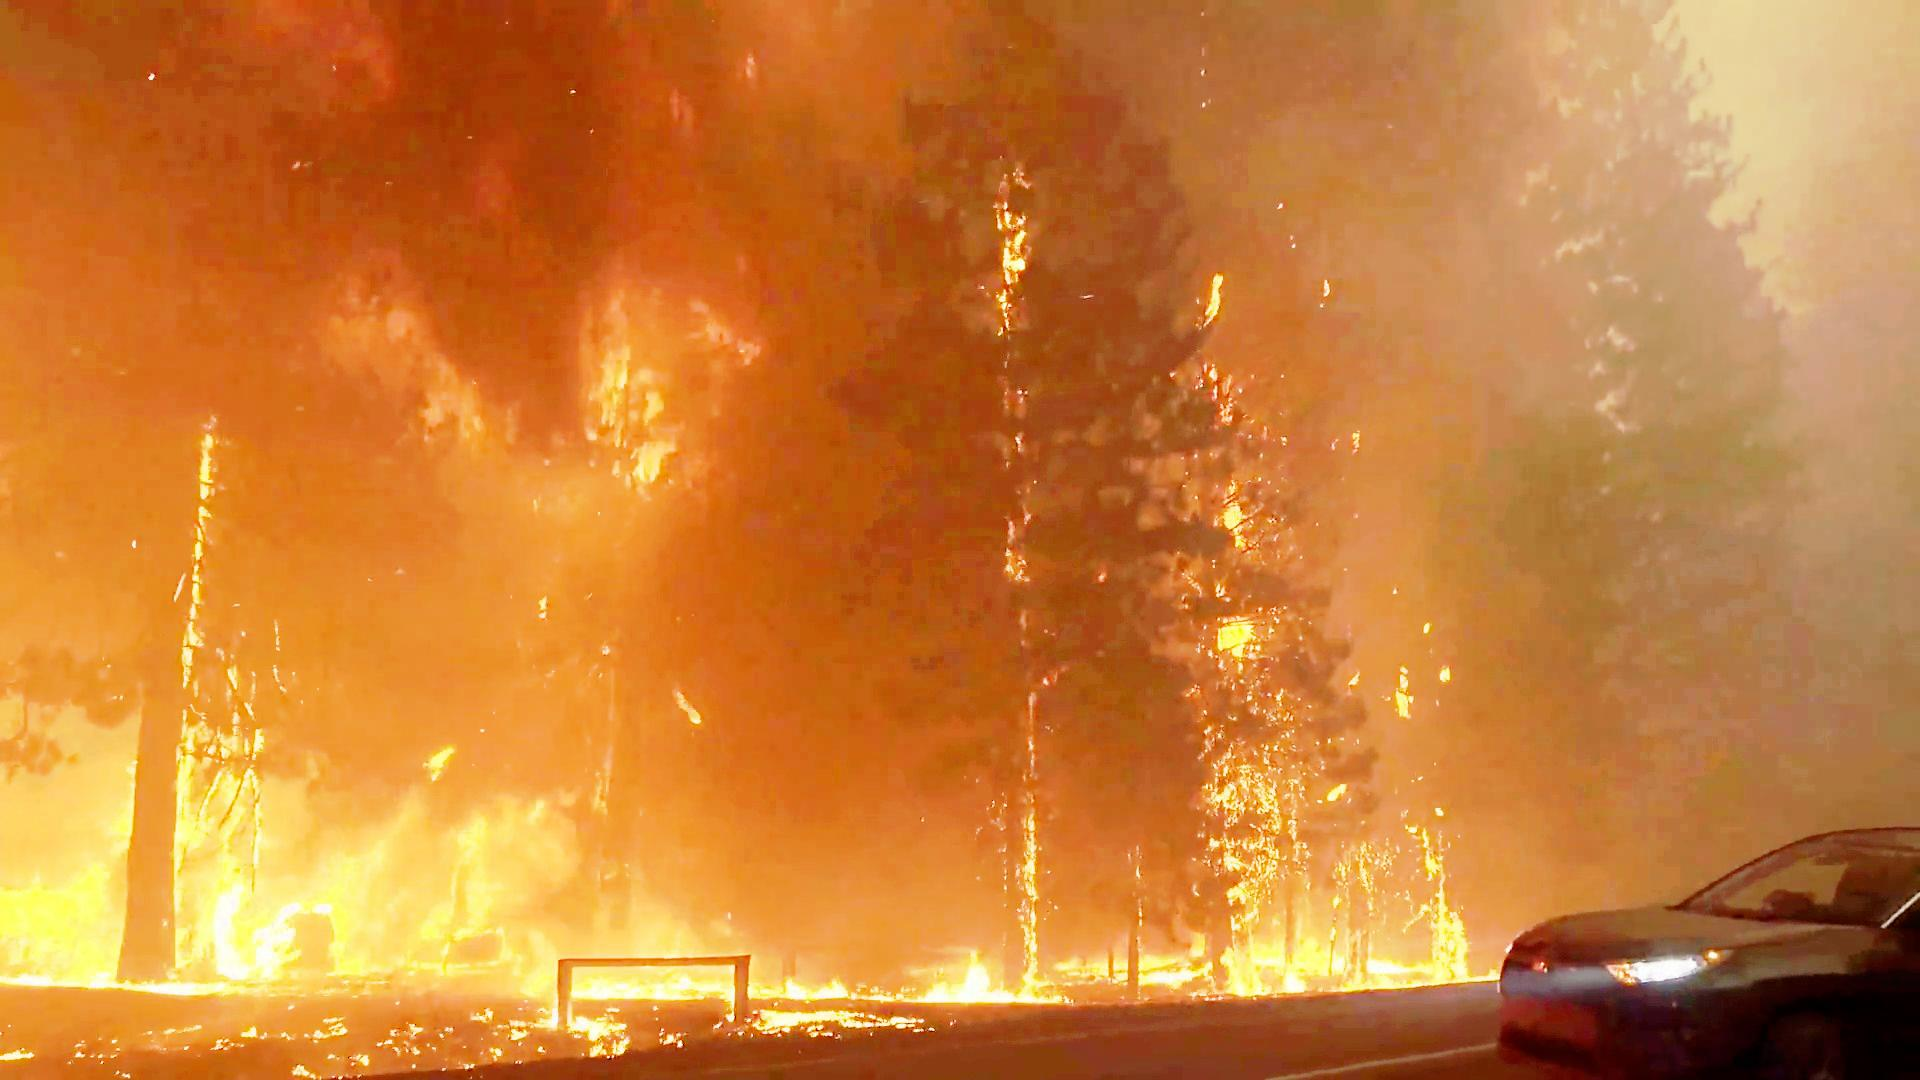fire: (0, 733, 470, 984), (1210, 910, 1467, 994), (921, 933, 1033, 1024)
